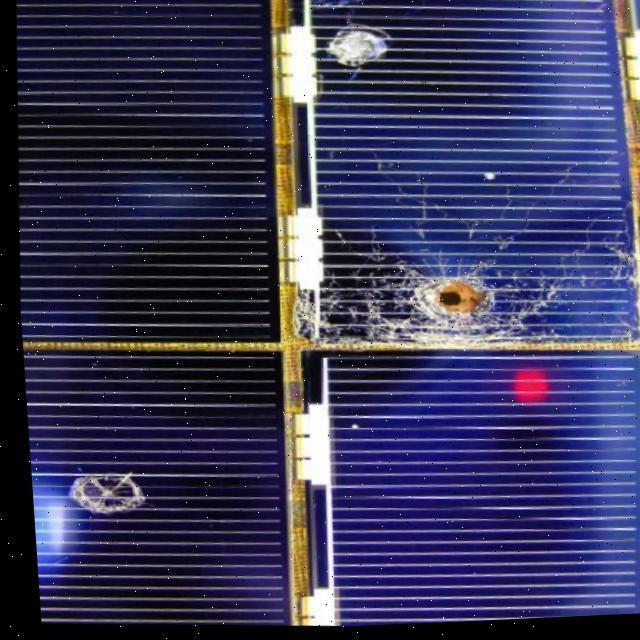Anomaly Solar Panel: (16, 0, 640, 629)
Structural Damage: (369, 248, 531, 353), (325, 16, 400, 79), (60, 470, 148, 523)
